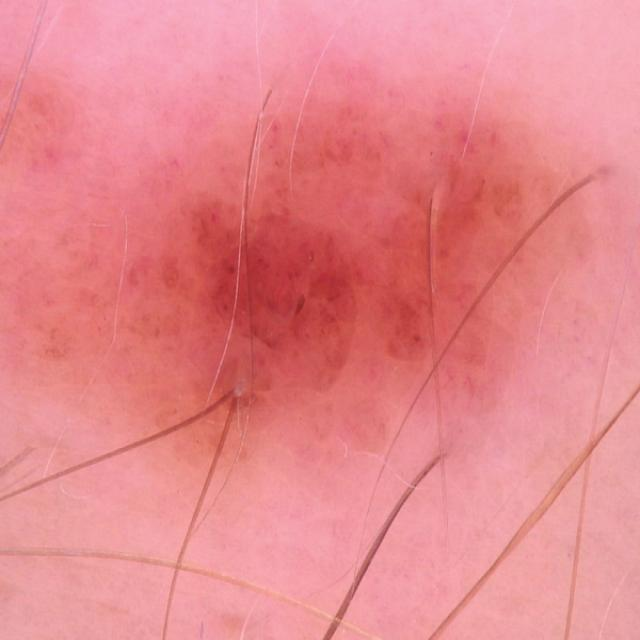NV: (0, 58, 588, 471)
